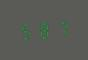eight: (36, 20, 52, 39)
five: (18, 21, 34, 40)
seven: (53, 19, 69, 38)
